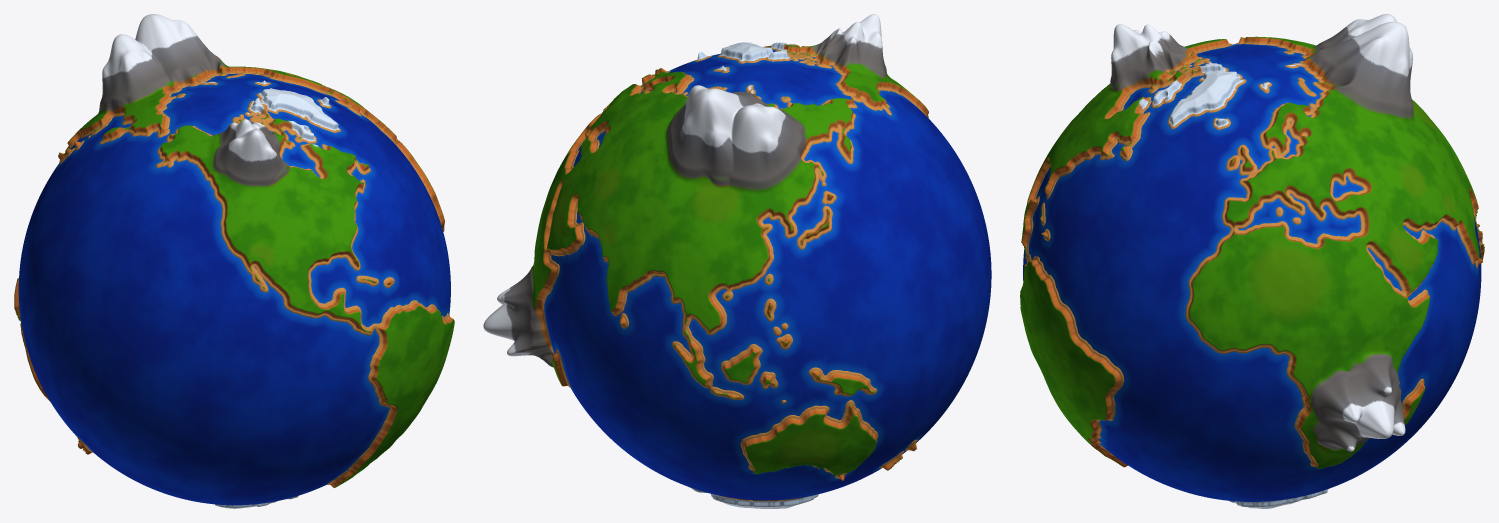
Rendered from Planet.fbx.
The picture shows the model from 3 angles, left to right: view 1: azimuth 30°, elevation 25°; view 2: azimuth 150°, elevation 25°; view 3: azimuth 270°, elevation 25°; orthographic projection. The views are drawn at different scales.
Visible parts, largest first — view 1: Planet_Ocean, Planet_Land; view 2: Planet_Ocean, Planet_Land; view 3: Planet_Land, Planet_Ocean.
Part boxes in pixels (box(x1,y1,x2,y2)): Planet_Ocean: box(18, 73, 450, 505); Planet_Land: box(14, 14, 454, 508); Planet_Ocean: box(544, 49, 991, 500); Planet_Land: box(483, 14, 928, 508); Planet_Land: box(1020, 14, 1484, 508); Planet_Ocean: box(1023, 44, 1481, 501).
Size of the model in its own units: 2.11 by 2.22 by 2.03.
